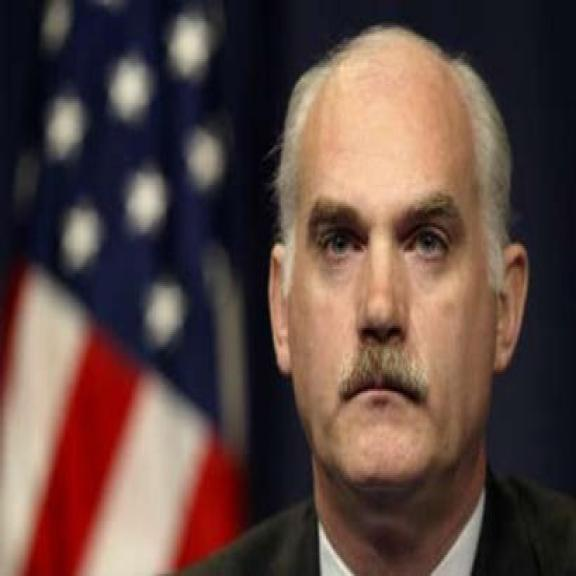face: (266, 55, 532, 503)
